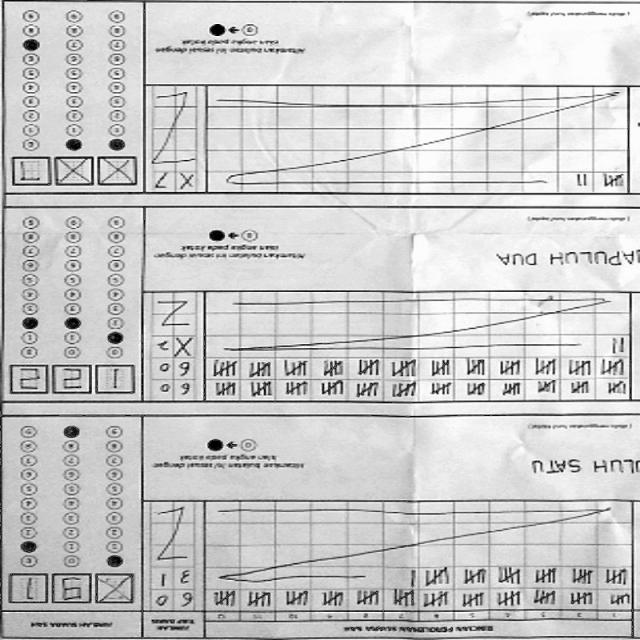Suara: (5, 569, 139, 609), (6, 360, 140, 400), (9, 154, 143, 194)
